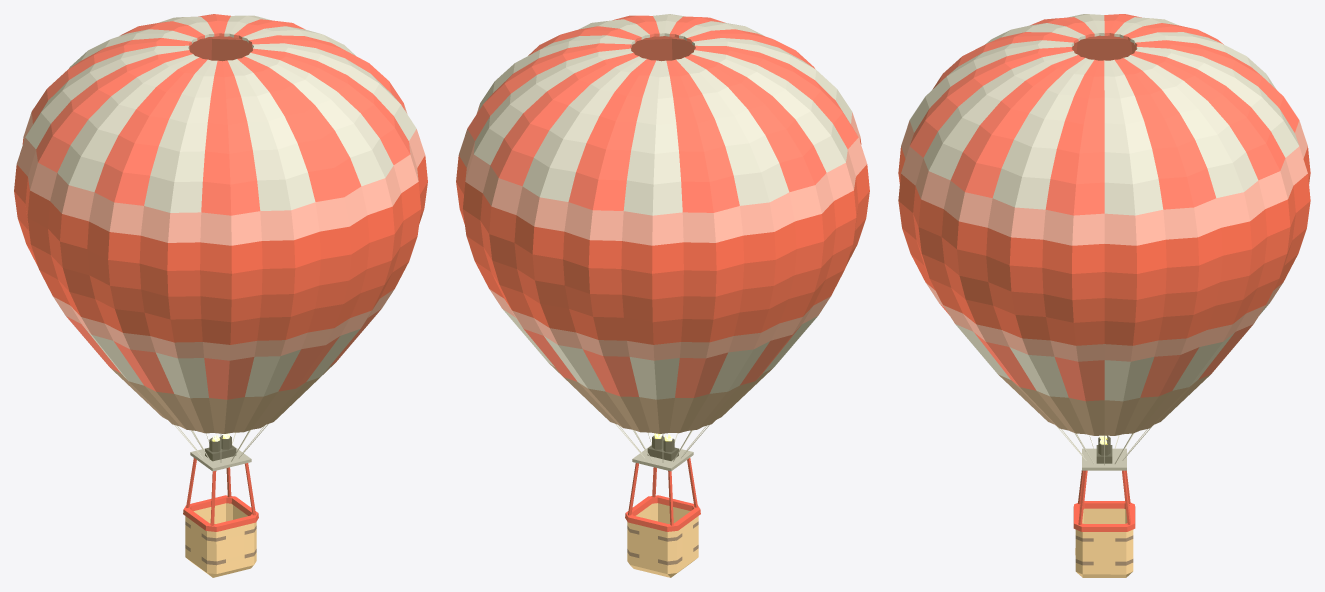
Rendered from quiz.gltf.
The picture shows the model from 3 angles, left to right: view 1: azimuth 30°, elevation 25°; view 2: azimuth 150°, elevation 25°; view 3: azimuth 270°, elevation 25°; orthographic projection.
Parts seen in each view (by area): view 1: land_73008, land_73006; view 2: land_73008, land_73006; view 3: land_73008, land_73006.
Boxes of the visible parts, x1=… form: land_73008: x1=14, y1=14, x2=427, y2=433; land_73006: x1=174, y1=424, x2=268, y2=577; land_73008: x1=456, y1=14, x2=869, y2=433; land_73006: x1=615, y1=424, x2=709, y2=577; land_73008: x1=898, y1=14, x2=1310, y2=435; land_73006: x1=1056, y1=426, x2=1152, y2=577.
Size of the model in its own units: 7.91 by 11.05 by 7.91.
Materials: 2 (1 with a texture image).
